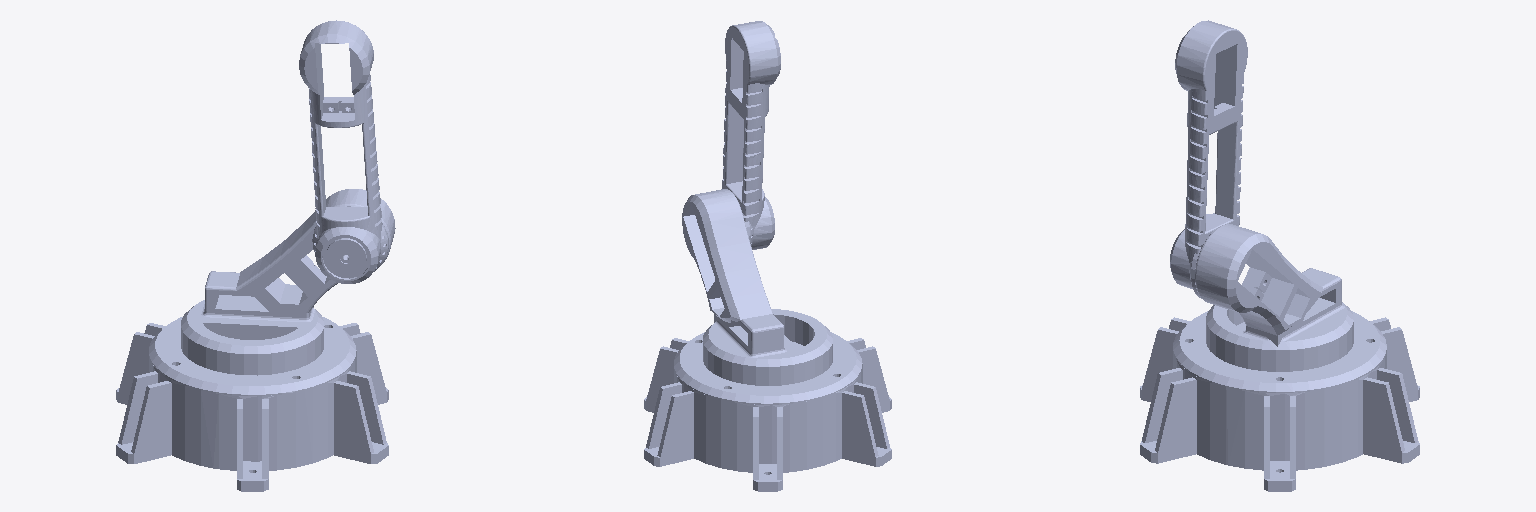
The robot description file, URDF, robot "Robotic_arm_urdf":
<?xml version="1.0" encoding="utf-8"?>
<!-- This URDF was automatically created by SolidWorks to URDF Exporter! Originally created by [author] ([email redacted]) 
     Commit Version: 1.6.0-4-g7f85cfe  Build Version: 1.6.7995.38578
     For more information, please see http://wiki.ros.org/sw_urdf_exporter -->
<robot
  name="Robotic_arm_urdf">
  <link
    name="base_link">
    <inertial>
      <origin
        xyz="-0.0409899402412761 0.11509269619067 0.1793435346801"
        rpy="0 0 0" />
      <mass
        value="0.273457775165078" />
      <inertia
        ixx="0.000550599522551074"
        ixy="-3.98806876244997E-20"
        ixz="-1.07968566012619E-18"
        iyy="0.00100535104215319"
        iyz="1.11948478177166E-08"
        izz="0.00055131605565863" />
    </inertial>
    <visual>
      <origin
        xyz="0 0 0"
        rpy="0 0 0" />
      <geometry>
        <mesh
          filename="package://Robotic_arm_urdf/meshes/base_link.STL" />
      </geometry>
      <material
        name="">
        <color
          rgba="0.792156862745098 0.819607843137255 0.933333333333333 1" />
      </material>
    </visual>
    <collision>
      <origin
        xyz="0 0 0"
        rpy="0 0 0" />
      <geometry>
        <mesh
          filename="package://Robotic_arm_urdf/meshes/base_link.STL" />
      </geometry>
    </collision>
  </link>
  <link
    name="bicep_link">
    <inertial>
      <origin
        xyz="0.0176374765166666 -0.00318913226984843 0.0116731237424099"
        rpy="0 0 0" />
      <mass
        value="0.176834526977706" />
      <inertia
        ixx="0.000230463635914927"
        ixy="5.55330403886902E-05"
        ixz="-0.000102103428615064"
        iyy="0.000294033964405724"
        iyz="5.17092540253718E-05"
        izz="0.0002402271432087" />
    </inertial>
    <visual>
      <origin
        xyz="0 0 0"
        rpy="0 0 0" />
      <geometry>
        <mesh
          filename="package://Robotic_arm_urdf/meshes/bicep_link.STL" />
      </geometry>
      <material
        name="">
        <color
          rgba="0.792156862745098 0.819607843137255 0.933333333333333 1" />
      </material>
    </visual>
    <collision>
      <origin
        xyz="0 0 0"
        rpy="0 0 0" />
      <geometry>
        <mesh
          filename="package://Robotic_arm_urdf/meshes/bicep_link.STL" />
      </geometry>
    </collision>
  </link>
  <joint
    name="bicep_joint"
    type="revolute">
    <origin
      xyz="-0.04099 -0.17922 0.1611"
      rpy="0 0 0" />
    <parent
      link="base_link" />
    <child
      link="bicep_link" />
    <axis
      xyz="0 0 1" />
    <limit
      lower="0"
      upper="0"
      effort="0"
      velocity="0" />
  </joint>
  <link
    name="arm1_link">
    <inertial>
      <origin
        xyz="-0.00380465406326749 0.0631701667570544 -0.00400963052764294"
        rpy="0 0 0" />
      <mass
        value="0.0713721391109546" />
      <inertia
        ixx="0.000240012845563008"
        ixy="1.35534931443173E-05"
        ixz="-1.24388213175041E-07"
        iyy="1.59429072582636E-05"
        iyz="2.07136362406018E-06"
        izz="0.000249620883951824" />
    </inertial>
    <visual>
      <origin
        xyz="0 0 0"
        rpy="0 0 0" />
      <geometry>
        <mesh
          filename="package://Robotic_arm_urdf/meshes/arm1_link.STL" />
      </geometry>
      <material
        name="">
        <color
          rgba="0.792156862745098 0.819607843137255 0.933333333333333 1" />
      </material>
    </visual>
    <collision>
      <origin
        xyz="0 0 0"
        rpy="0 0 0" />
      <geometry>
        <mesh
          filename="package://Robotic_arm_urdf/meshes/arm1_link.STL" />
      </geometry>
    </collision>
  </link>
  <joint
    name="arm1_joint"
    type="revolute">
    <origin
      xyz="0.040988 -0.049174 0.050067"
      rpy="1.5708 0 -0.64651" />
    <parent
      link="bicep_link" />
    <child
      link="arm1_link" />
    <axis
      xyz="0 0 -1" />
    <limit
      lower="0"
      upper="0"
      effort="0"
      velocity="0" />
  </joint>
  <link
    name="arm2_link">
    <inertial>
      <origin
        xyz="-0.0462757681406877 -0.00179719520817662 0.00283323944258318"
        rpy="0 0 0" />
      <mass
        value="0.059726655007088" />
      <inertia
        ixx="9.42658984571273E-06"
        ixy="-4.06038789240042E-06"
        ixz="-1.30204330068378E-06"
        iyy="0.000116516464427784"
        iyz="-4.62994059438566E-08"
        izz="0.000119693202982731" />
    </inertial>
    <visual>
      <origin
        xyz="0 0 0"
        rpy="0 0 0" />
      <geometry>
        <mesh
          filename="package://Robotic_arm_urdf/meshes/arm2_link.STL" />
      </geometry>
      <material
        name="">
        <color
          rgba="0.792156862745098 0.819607843137255 0.933333333333333 1" />
      </material>
    </visual>
    <collision>
      <origin
        xyz="0 0 0"
        rpy="0 0 0" />
      <geometry>
        <mesh
          filename="package://Robotic_arm_urdf/meshes/arm2_link.STL" />
      </geometry>
    </collision>
  </link>
  <joint
    name="arm2_joint"
    type="revolute">
    <origin
      xyz="-0.0028592 0.13609 -0.025068"
      rpy="-3.1416 0 0" />
    <parent
      link="arm1_link" />
    <child
      link="arm2_link" />
    <axis
      xyz="0 0 1" />
    <limit
      lower="0"
      upper="0"
      effort="0"
      velocity="0" />
  </joint>
  <link
    name="gripperSup_link">
    <inertial>
      <origin
        xyz="-0.0220647801149259 0.018304052270959 -0.000736346445310732"
        rpy="0 0 0" />
      <mass
        value="0.0107802680605055" />
      <inertia
        ixx="2.33827751040075E-06"
        ixy="4.78392566136508E-07"
        ixz="9.93842932748418E-08"
        iyy="2.91870602078892E-06"
        iyz="-1.38100047709E-08"
        izz="5.0755750082705E-06" />
    </inertial>
    <visual>
      <origin
        xyz="0 0 0"
        rpy="0 0 0" />
      <geometry>
        <mesh
          filename="package://Robotic_arm_urdf/meshes/gripperSup_link.STL" />
      </geometry>
      <material
        name="">
        <color
          rgba="0.792156862745098 0.819607843137255 0.933333333333333 1" />
      </material>
    </visual>
    <collision>
      <origin
        xyz="0 0 0"
        rpy="0 0 0" />
      <geometry>
        <mesh
          filename="package://Robotic_arm_urdf/meshes/gripperSup_link.STL" />
      </geometry>
    </collision>
  </link>
  <joint
    name="gripperSup_joint"
    type="fixed">
    <origin
      xyz="-0.14874 -0.0058338 0.0019915"
      rpy="1.5708 -0.64688 0.039202" />
    <parent
      link="arm2_link" />
    <child
      link="gripperSup_link" />
    <axis
      xyz="0 0 0" />
  </joint>
  <link
    name="leftClaw_link">
    <inertial>
      <origin
        xyz="-0.0203741570522345 0.0178294586240692 0.000408340722861944"
        rpy="0 0 0" />
      <mass
        value="0.00659380087326398" />
      <inertia
        ixx="7.04162676171799E-07"
        ixy="6.1030935659097E-07"
        ixz="1.38890410313616E-22"
        iyy="8.95844690204476E-07"
        iyz="-1.91905902112302E-22"
        izz="1.56044456113669E-06" />
    </inertial>
    <visual>
      <origin
        xyz="0 0 0"
        rpy="0 0 0" />
      <geometry>
        <mesh
          filename="package://Robotic_arm_urdf/meshes/leftClaw_link.STL" />
      </geometry>
      <material
        name="">
        <color
          rgba="0.792156862745098 0.819607843137255 0.933333333333333 1" />
      </material>
    </visual>
    <collision>
      <origin
        xyz="0 0 0"
        rpy="0 0 0" />
      <geometry>
        <mesh
          filename="package://Robotic_arm_urdf/meshes/leftClaw_link.STL" />
      </geometry>
    </collision>
  </link>
  <joint
    name="leftClaw_joint"
    type="revolute">
    <origin
      xyz="-0.03814 0.011889 0.003"
      rpy="0 0 0" />
    <parent
      link="gripperSup_link" />
    <child
      link="leftClaw_link" />
    <axis
      xyz="0 0 -1" />
    <limit
      lower="0"
      upper="0"
      effort="0"
      velocity="0" />
  </joint>
  <link
    name="rightClaw_link">
    <inertial>
      <origin
        xyz="-0.0211022544751808 0.0140652972596869 0.000568478581755072"
        rpy="0 0 0" />
      <mass
        value="0.00702806279088025" />
      <inertia
        ixx="5.82415357603243E-07"
        ixy="5.74479258747562E-07"
        ixz="-1.43183186887082E-21"
        iyy="1.09041657885732E-06"
        iyz="9.84344928938103E-22"
        izz="1.63066355971528E-06" />
    </inertial>
    <visual>
      <origin
        xyz="0 0 0"
        rpy="0 0 0" />
      <geometry>
        <mesh
          filename="package://Robotic_arm_urdf/meshes/rightClaw_link.STL" />
      </geometry>
      <material
        name="">
        <color
          rgba="0.792156862745098 0.819607843137255 0.933333333333333 1" />
      </material>
    </visual>
    <collision>
      <origin
        xyz="0 0 0"
        rpy="0 0 0" />
      <geometry>
        <mesh
          filename="package://Robotic_arm_urdf/meshes/rightClaw_link.STL" />
      </geometry>
    </collision>
  </link>
  <joint
    name="rightClaw_joint"
    type="revolute">
    <origin
      xyz="-0.021867 0.033434 0.003"
      rpy="0 0 0" />
    <parent
      link="gripperSup_link" />
    <child
      link="rightClaw_link" />
    <axis
      xyz="0 0 -1" />
    <limit
      lower="0"
      upper="0"
      effort="0"
      velocity="0" />
  </joint>
</robot>

--- Facts derived from the render (not from the file) ---
Views: 3 orthographic renders of the robot side by side, from view 1: azimuth 30°, elevation 25°; view 2: azimuth 150°, elevation 25°; view 3: azimuth 270°, elevation 25°.
Model Robotic_arm_urdf with 7 links and 6 joints (5 revolute, 1 fixed), rooted at base_link, posed every joint at zero.
Links seen in each view (by area): view 1: base_link, bicep_link, arm1_link; view 2: base_link, bicep_link, arm1_link; view 3: base_link, bicep_link, arm1_link.
Boxes of the visible links, x1,y1,x2,y2 form: base_link: [116, 317, 388, 491]; bicep_link: [181, 189, 395, 375]; arm1_link: [299, 20, 388, 283]; base_link: [644, 332, 891, 491]; bicep_link: [682, 189, 832, 385]; arm1_link: [722, 21, 780, 249]; base_link: [1140, 311, 1419, 491]; bicep_link: [1195, 224, 1353, 371]; arm1_link: [1170, 20, 1247, 298].
Size in the robot's own frame: 0.1885 by 0.1702 by 0.2843 metres.
3 mesh visuals loaded from 7 distinct referenced files (3 binary STL); not drawn: 4 (reference not matched to a file when rendering).